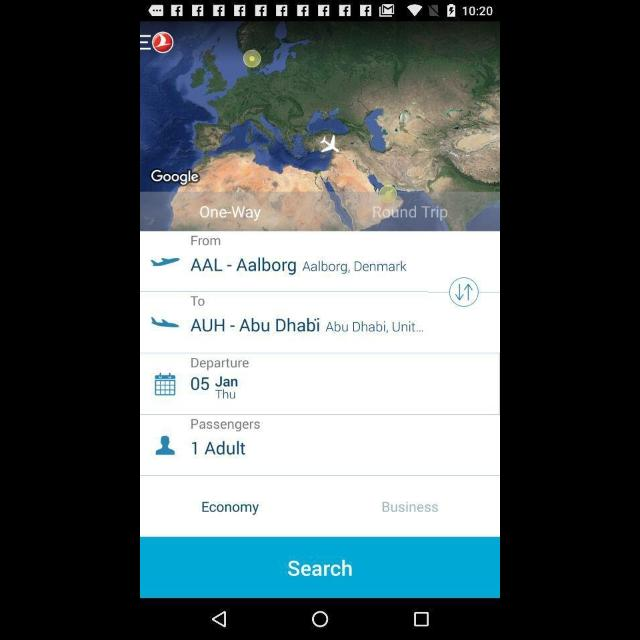icon: (156, 373, 177, 399), (148, 315, 182, 331), (148, 256, 182, 266), (157, 436, 173, 454), (412, 612, 428, 628), (213, 612, 227, 628), (313, 612, 327, 628)
map: (140, 20, 500, 230)
multitab: (140, 478, 500, 536)
panel: (140, 230, 500, 292), (140, 414, 500, 476), (140, 292, 500, 352), (140, 354, 500, 414), (140, 600, 500, 638)
text: (192, 317, 428, 338), (191, 258, 407, 276), (192, 374, 240, 404), (192, 440, 246, 458), (190, 420, 262, 432), (190, 358, 250, 372), (200, 501, 258, 513), (383, 502, 439, 514), (190, 235, 222, 247), (191, 295, 205, 309)
textbutton: (140, 537, 500, 597)
uppertaskbar: (140, 1, 500, 20)
